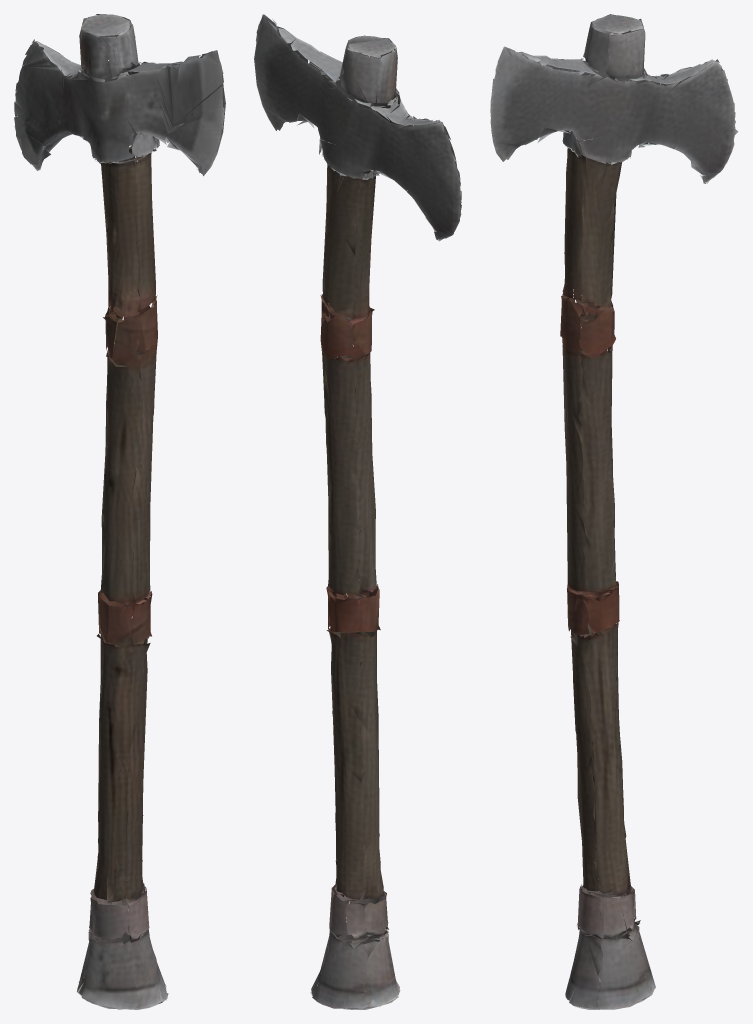
Rendered from war_axe.glb.
3 renders of one model, left to right at view 1: azimuth 30°, elevation 25°; view 2: azimuth 210°, elevation 25°; view 3: azimuth 270°, elevation 25°, orthographic.
Parts seen in each view (by area): view 1: WarAxe; view 2: WarAxe; view 3: WarAxe.
Boxes of the visible parts, x1,y1,x2,y2 form: WarAxe: [14, 14, 225, 1009]; WarAxe: [254, 14, 461, 1009]; WarAxe: [490, 14, 738, 1009].
Size of the model in its own units: 0.1689 by 1.75 by 0.4071.
Materials: 1 (1 with a texture image).
